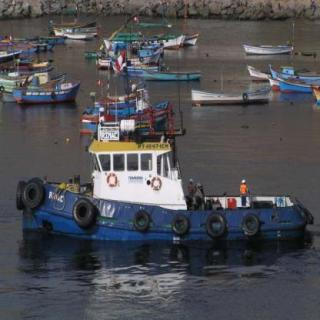Tug Boat: (19, 93, 309, 244)
